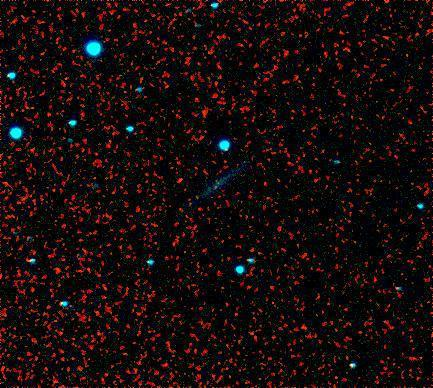star: (163, 164, 193, 194)
